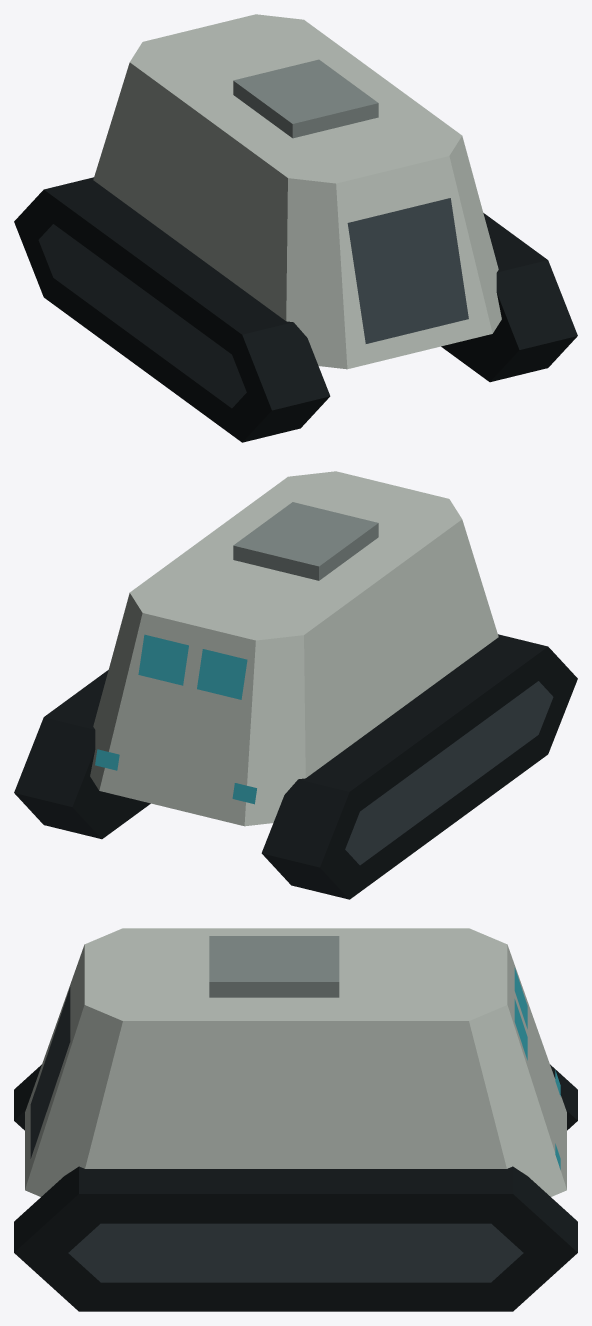
The model's file is tracked.glb.
3 renders of one model, top to bottom at view 1: azimuth 30°, elevation 25°; view 2: azimuth 150°, elevation 25°; view 3: azimuth 270°, elevation 25°, orthographic. The views are drawn at different scales.
Parts seen in each view (by area): view 1: vehicle; view 2: vehicle; view 3: vehicle.
Part boxes in pixels (x1=…): vehicle: x1=14, y1=14, x2=577, y2=442; vehicle: x1=14, y1=471, x2=577, y2=899; vehicle: x1=14, y1=928, x2=577, y2=1311.
Size of the model in its own units: 5.5 by 4.26 by 8.02.
